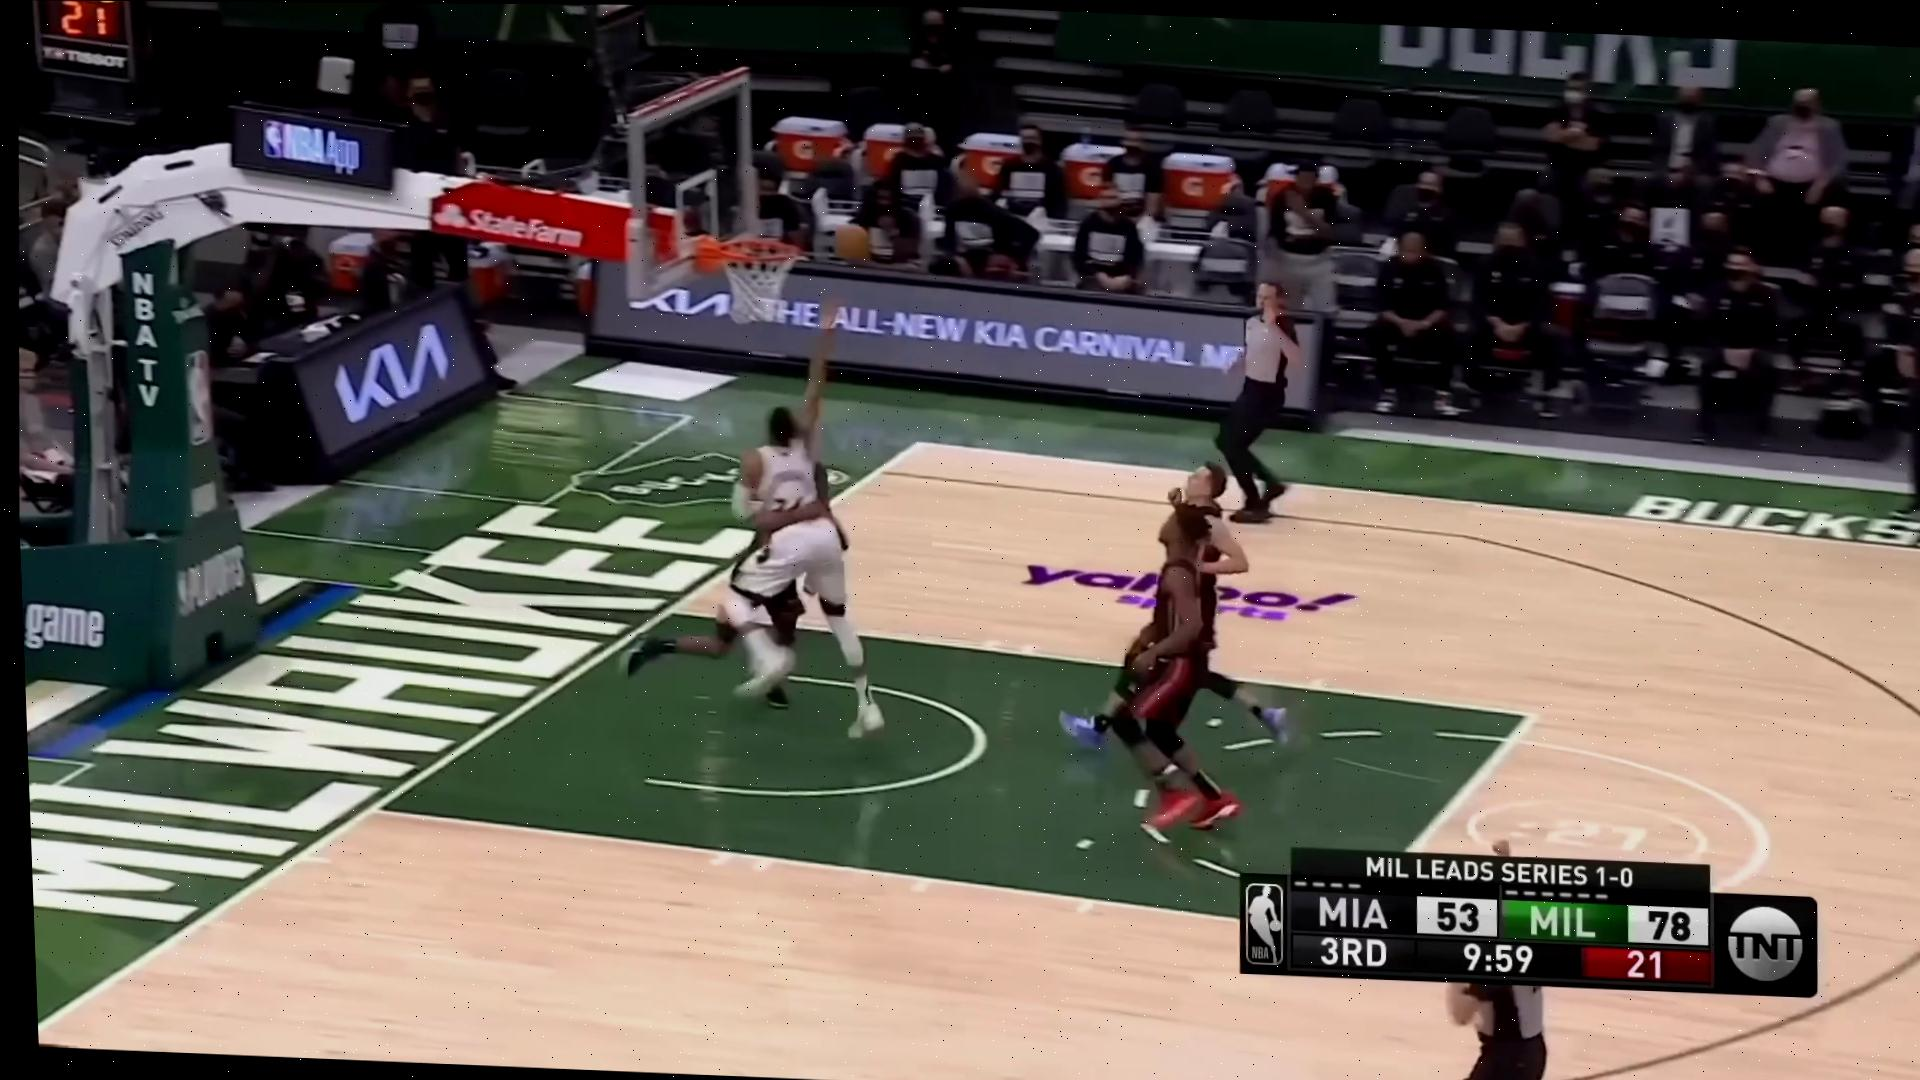foul: (663, 363, 916, 731)
